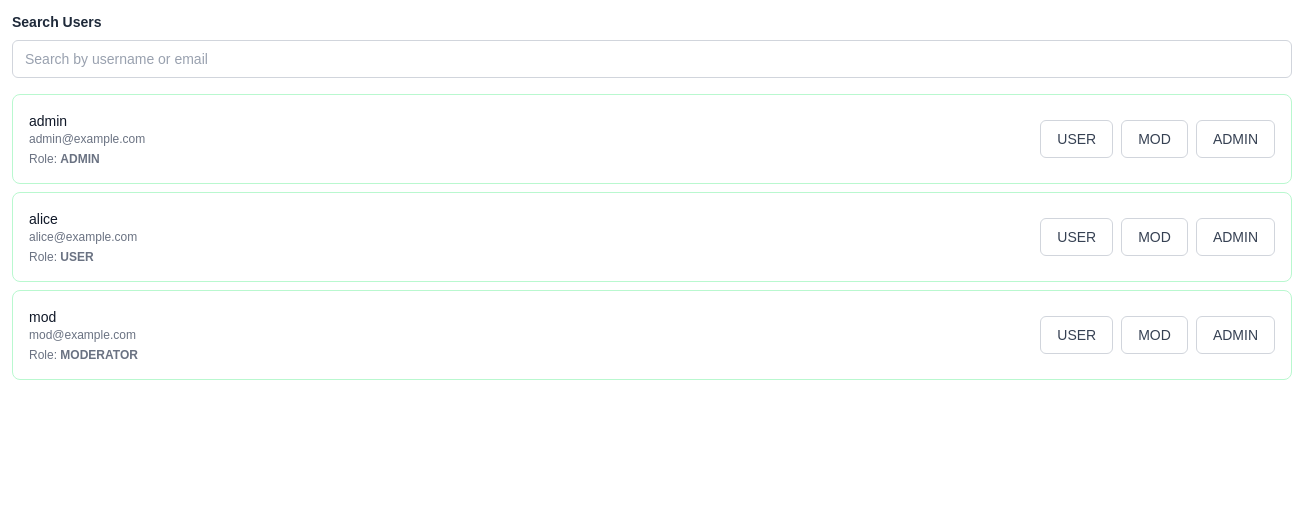
it: UserManagementTab › updates the displayed role after successful role change
Click the button with test id "change-role-moderator-2".
click(1155, 237)  # box 1121,218 -> 1188,256
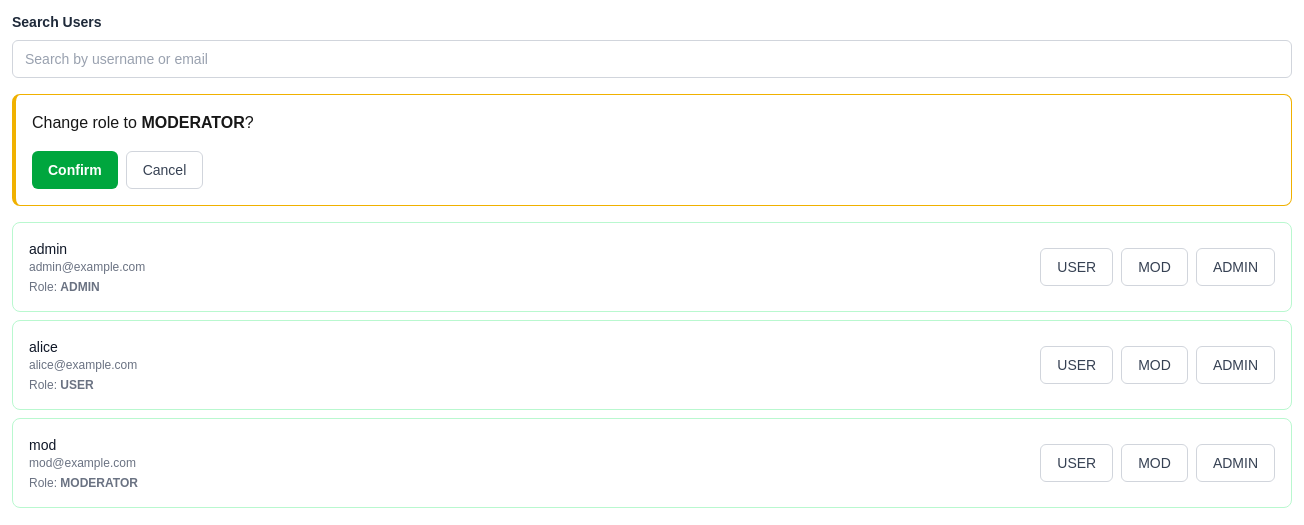
Click the button with test id "confirm-role-button".
click(75, 170)  # box 32,151 -> 118,189
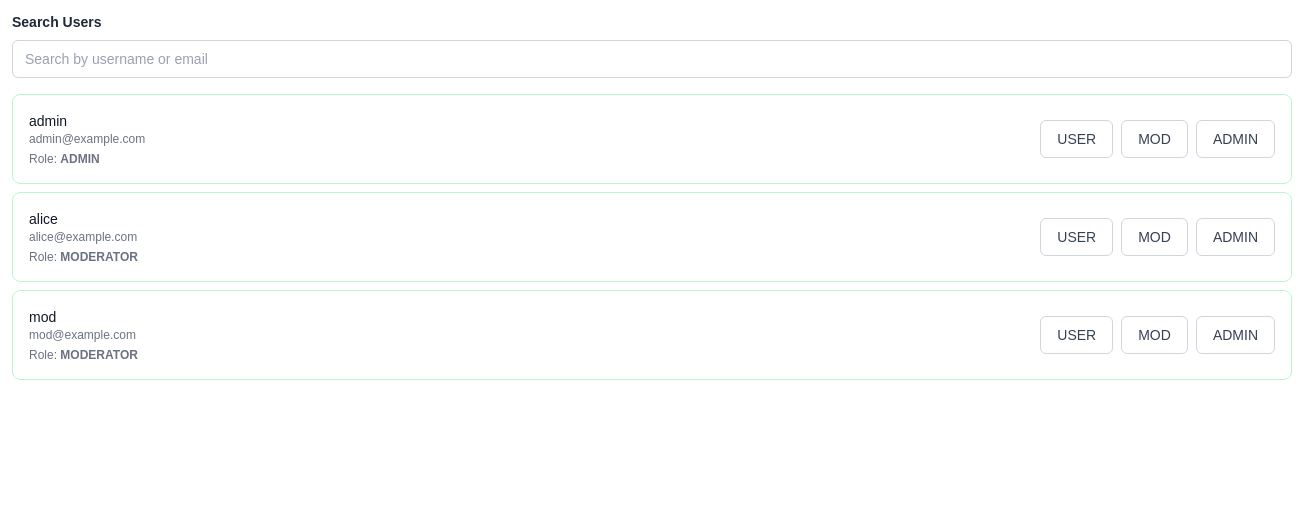
Result: the element with test id "user-role-2" shows "MODERATOR" at 60,250 -> 138,264
